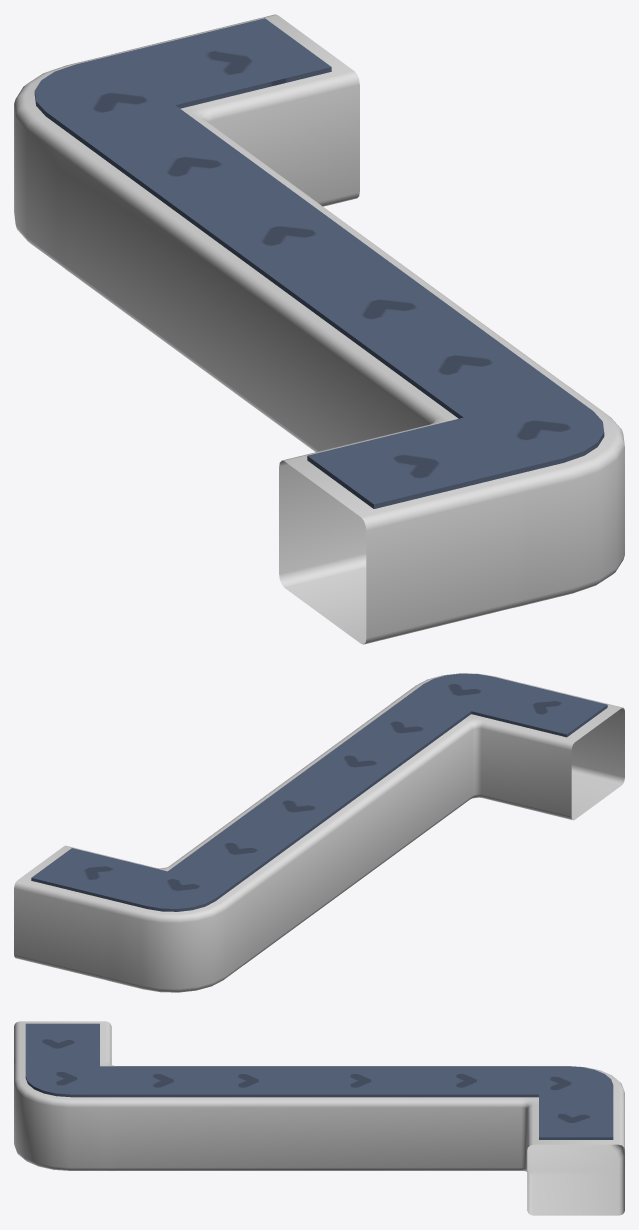
The model's file is band-s.fbx.
The picture shows the model from 3 angles, top to bottom: view 1: azimuth 30°, elevation 25°; view 2: azimuth 150°, elevation 25°; view 3: azimuth 270°, elevation 25°; orthographic projection. The views are drawn at different scales.
Parts seen in each view (by area): view 1: Plane.001, Plane.003; view 2: Plane.001, Plane.003; view 3: Plane.001, Plane.003.
Boxes of the visible parts, box(x1,y1,x2,y2) form: Plane.001: box(14, 14, 624, 644); Plane.003: box(34, 18, 604, 508); Plane.001: box(14, 673, 624, 992); Plane.003: box(31, 673, 607, 911); Plane.001: box(14, 1021, 624, 1215); Plane.003: box(25, 1023, 613, 1139).
Bounding box in the file's own units: 289 × 80.33 × 605.
